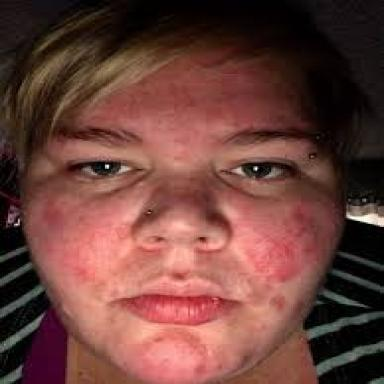burn: (51, 47, 316, 164), (37, 201, 175, 289), (219, 195, 341, 286), (111, 327, 250, 383), (126, 294, 240, 324), (254, 332, 319, 382), (167, 246, 225, 279), (269, 293, 309, 314)
